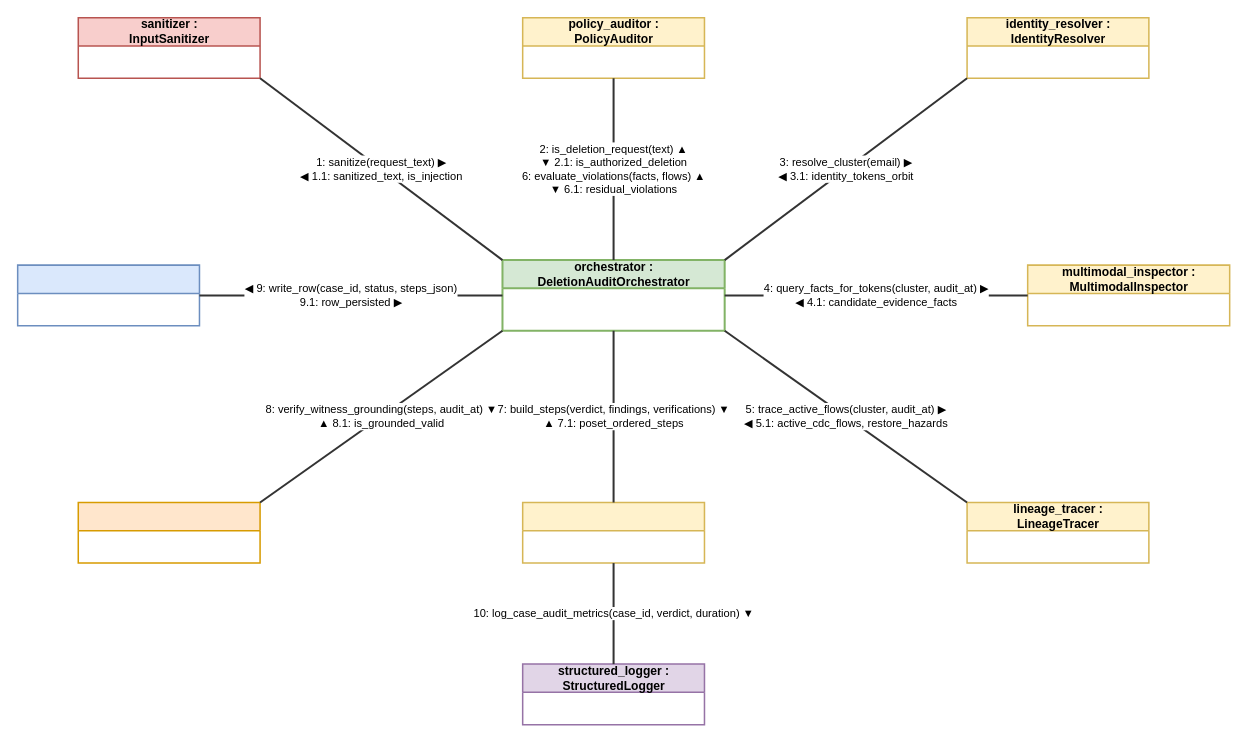
The diagram is 1248 pixels wide and 743 high, and some of its shapes have lost their labels. Each missing label, with the centre of its shape:
"csv_handler : CsvHandler" goes at [108,295].
"prompt_guard : PromptGuard" goes at [168,532].
"remediation_planner : RemediationPlanner" goes at [613,532].
